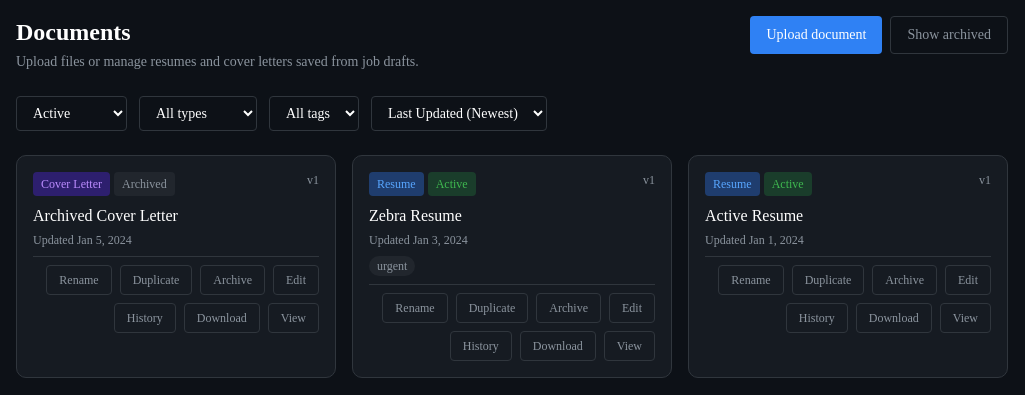
Scenario: DocumentsPage - S3-006 Library Filtering and Sorting › filters documents by type
Expected: the heading "Active Resume" is shown, [705, 207, 803, 224]
Step 1. Select "Cover Letter" in the dropdown with test id "type-filter" → (198, 114), box [139, 96, 257, 131]
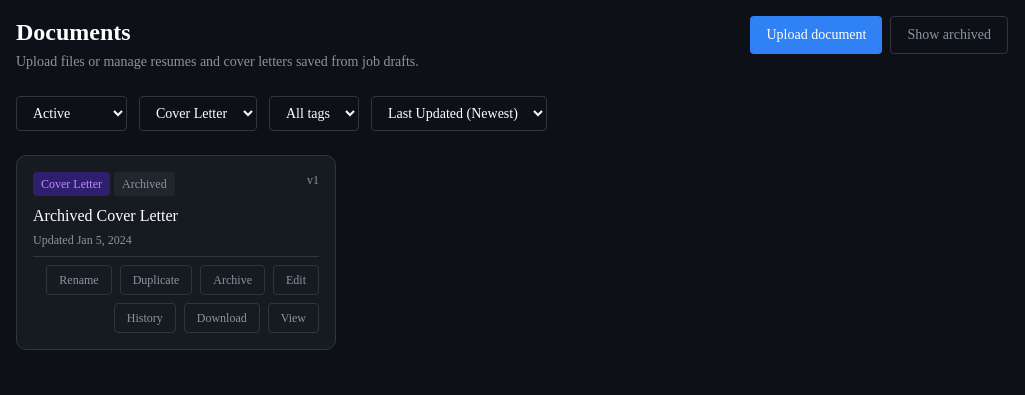
Expected: the heading "Archived Cover Letter" is shown, [33, 207, 178, 224]
Expected: the heading "Active Resume" is gone
Expected: the heading "Zebra Resume" is gone
